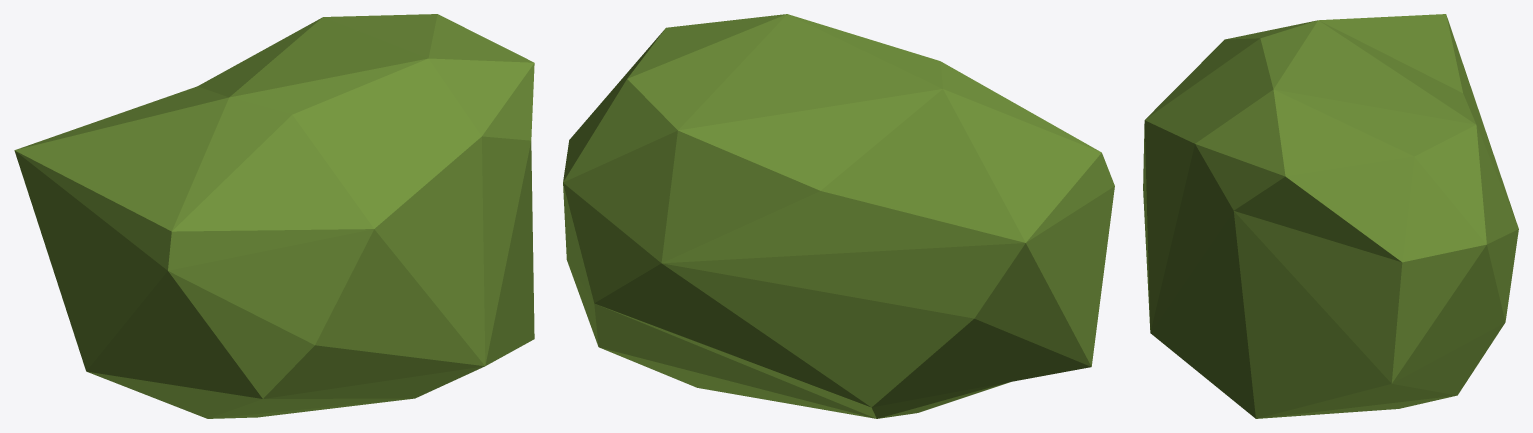
The model's file is Bush_03.fbx.
3 renders of one model, left to right at view 1: azimuth 30°, elevation 25°; view 2: azimuth 150°, elevation 25°; view 3: azimuth 270°, elevation 25°, orthographic. The views are drawn at different scales.
Parts seen in each view (by area): view 1: Bush_03; view 2: Bush_03; view 3: Bush_03.
Part boxes in pixels (<box>): Bush_03: <box>14,14,534,418</box>; Bush_03: <box>563,14,1114,418</box>; Bush_03: <box>1143,14,1518,418</box>.
Size of the model in its own units: 73.88 by 50 by 52.69.
